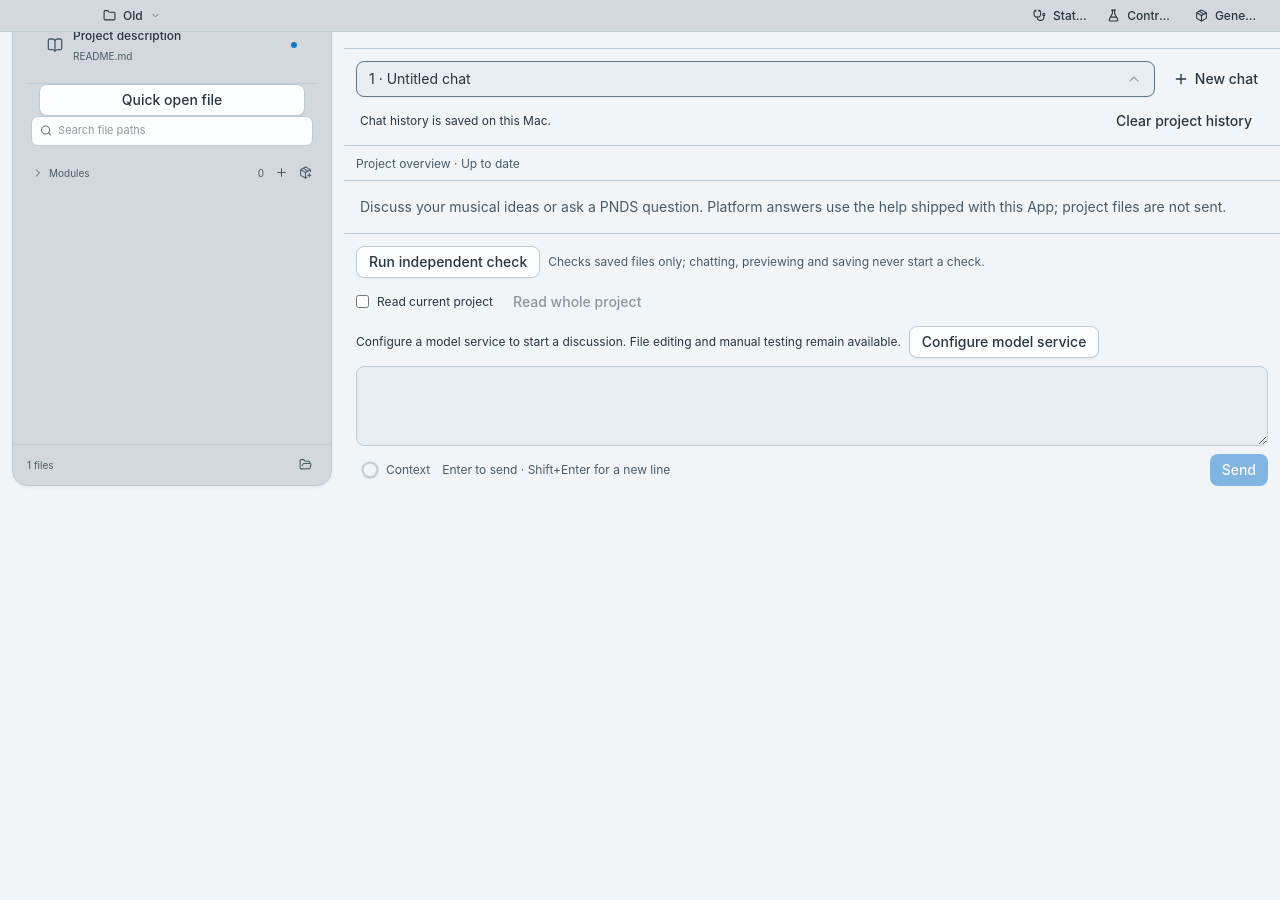
Scenario: names the completed directory and preserves the old drafts when generation succeeds but workspace commit fails
The width and height of the screenshot is (1280, 900).
Click the button with aria-label "Project actions".
click(132, 16)  # box left=96, top=4, right=168, bottom=28
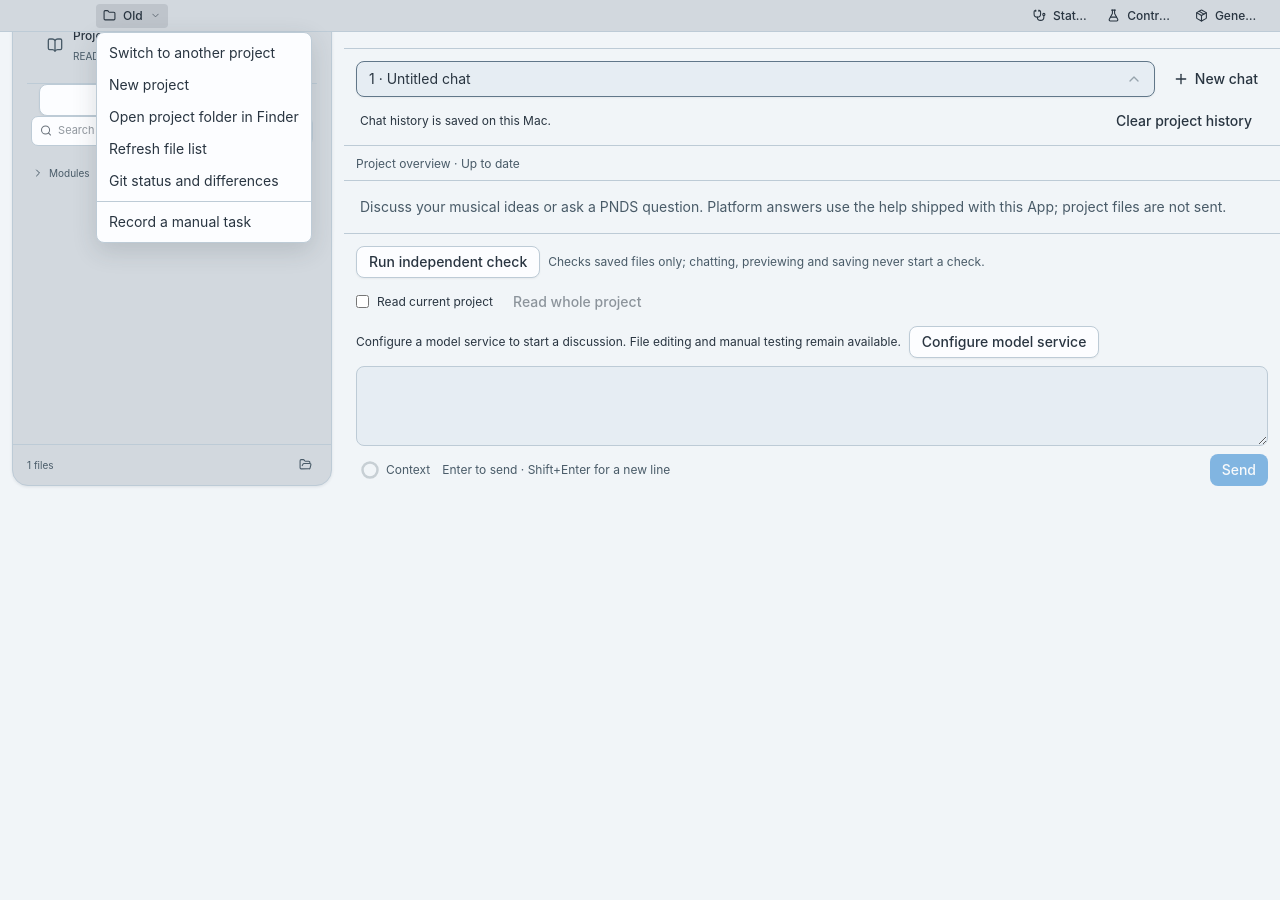
Click the menu item "Switch to another project".
click(192, 52)  # box left=109, top=44, right=275, bottom=61
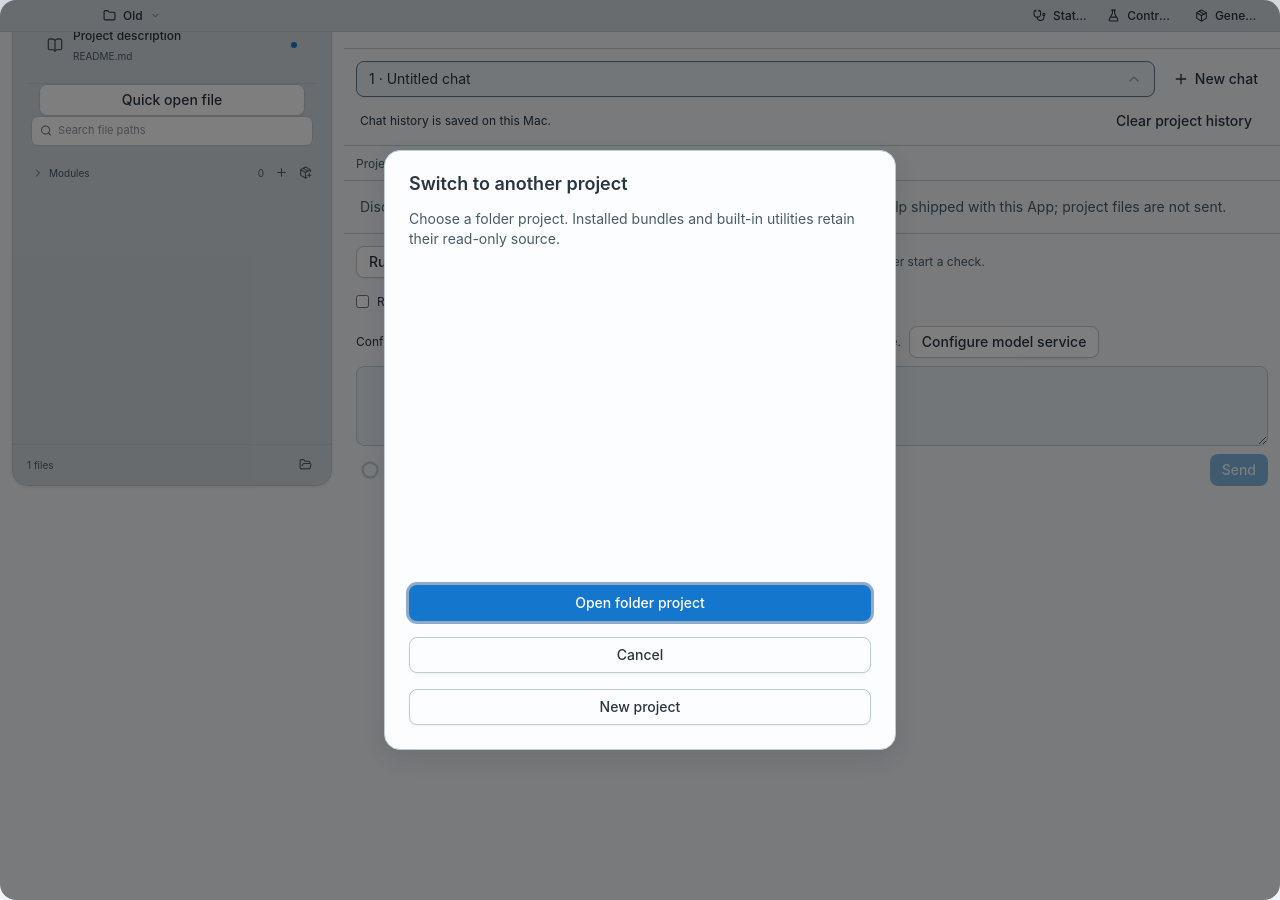
Click the button "New project".
click(640, 707)  # box left=409, top=689, right=871, bottom=725
(page scrolled)
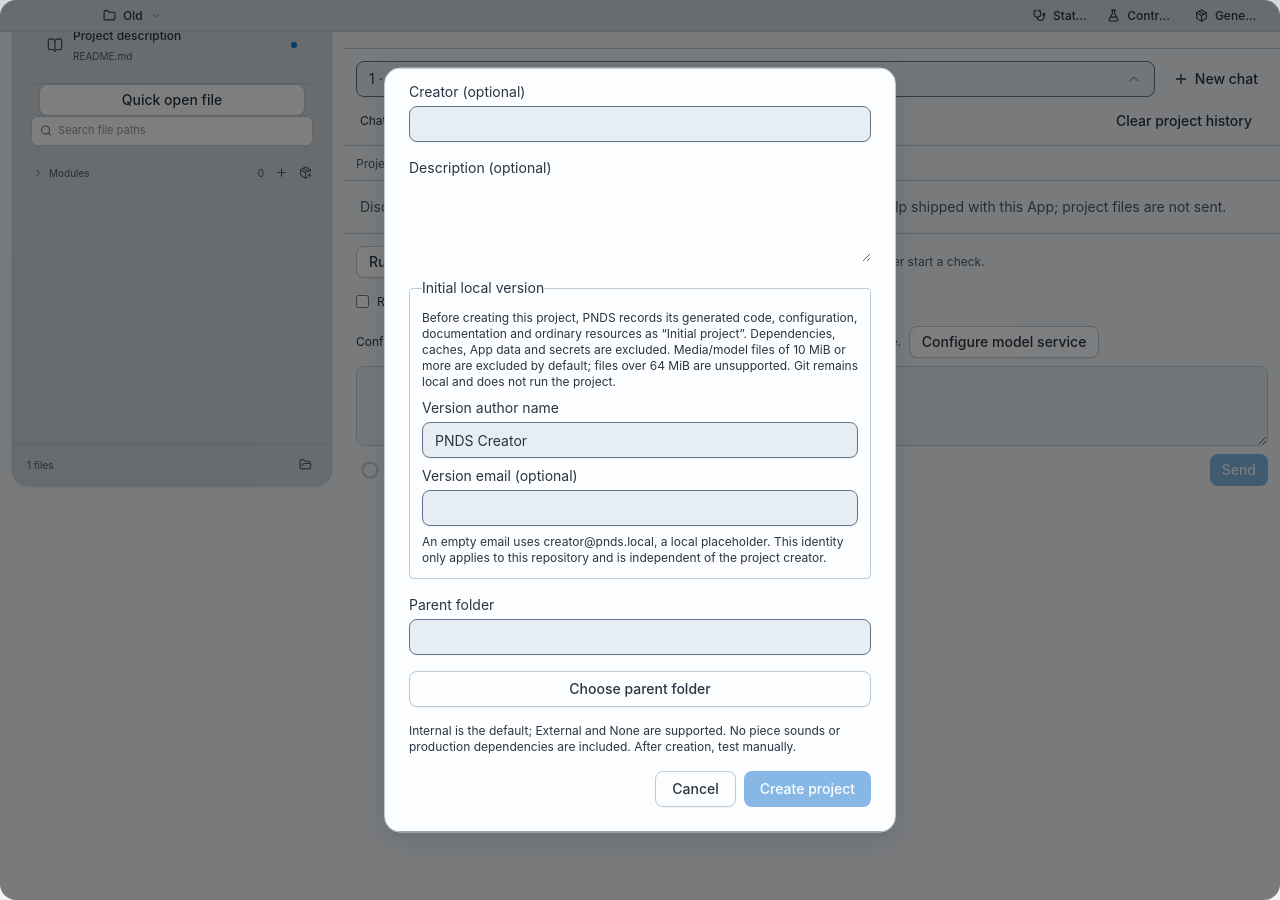
Click the button "Choose parent folder".
click(640, 690)  # box left=409, top=672, right=871, bottom=708
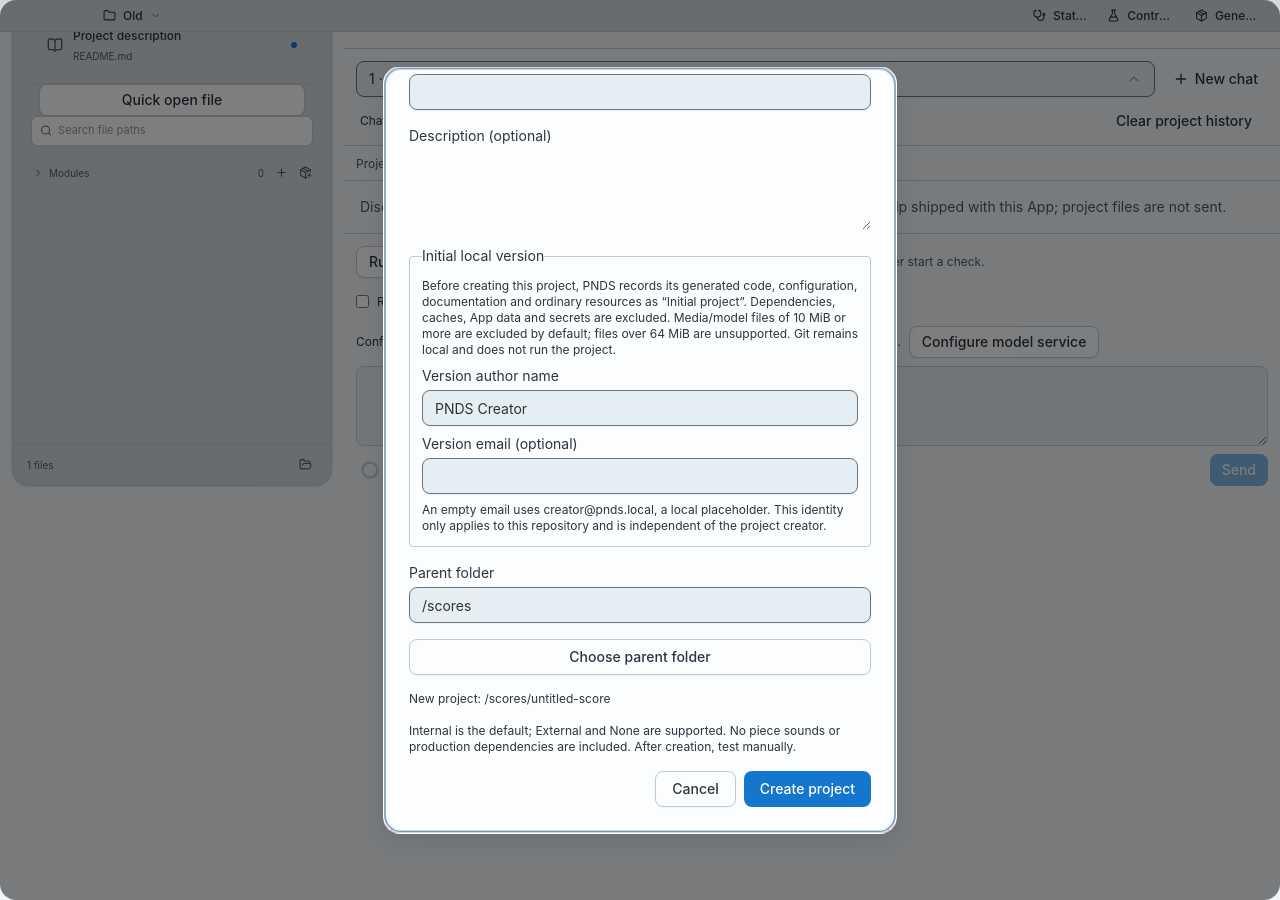
Expected: the field showing "/scores" is shown, left=409, top=588, right=871, bottom=624
Click the button "Create project".
click(807, 790)  # box left=744, top=772, right=871, bottom=808
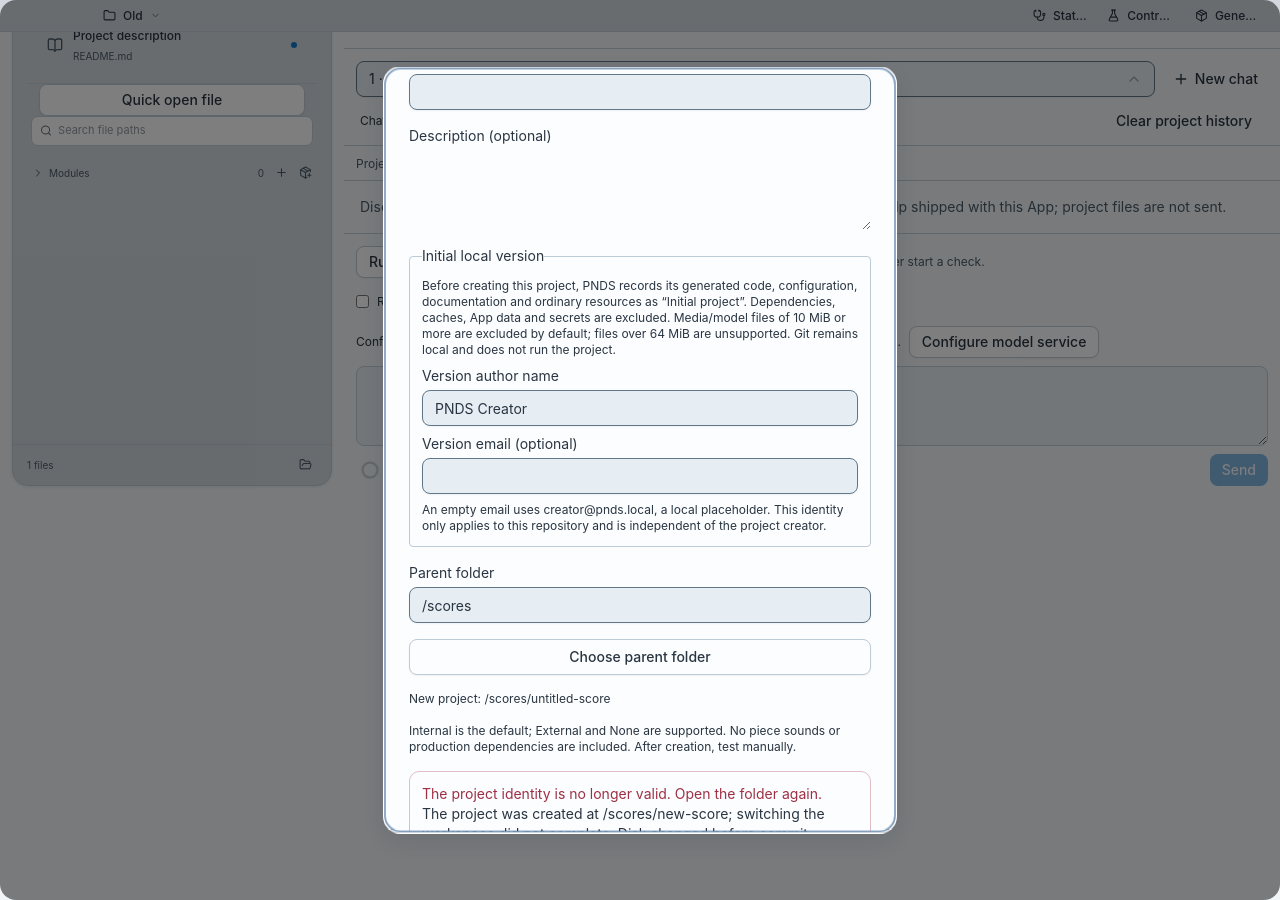
Expected: the text "The project was created at /scores/new-score; switching the workspace did not complete" is shown, left=422, top=806, right=825, bottom=832
